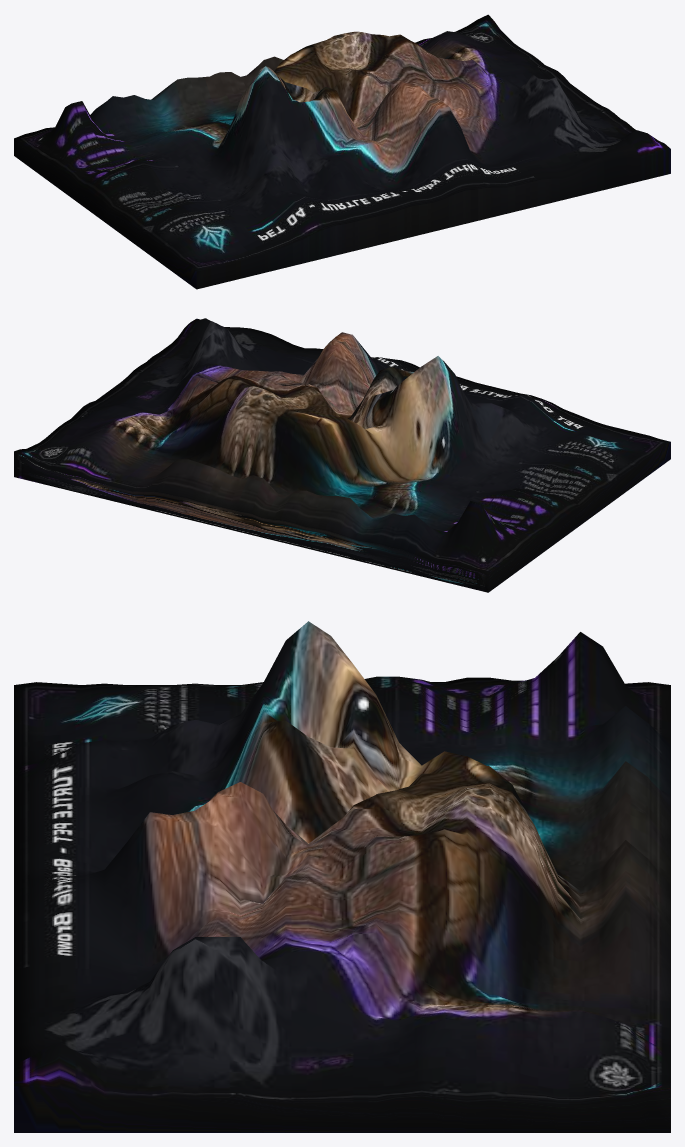
Rendered from PET_04_Turtle.glb.
3 renders of one model, top to bottom at view 1: azimuth 30°, elevation 25°; view 2: azimuth 150°, elevation 25°; view 3: azimuth 270°, elevation 25°, orthographic. The views are drawn at different scales.
Visible parts, largest first — view 1: PET_04_Turtle; view 2: PET_04_Turtle; view 3: PET_04_Turtle.
Boxes of the visible parts, bbox=[...] form: PET_04_Turtle: bbox=[14, 14, 670, 289]; PET_04_Turtle: bbox=[14, 318, 670, 592]; PET_04_Turtle: bbox=[14, 621, 670, 1132].
Size of the model in its own units: 2 by 0.51 by 1.33.
Materials: 1 (1 with a texture image).
